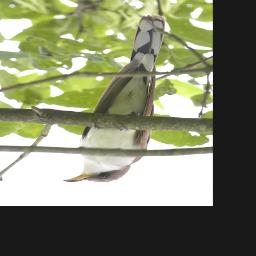Cuckoo: (61, 14, 165, 184)
